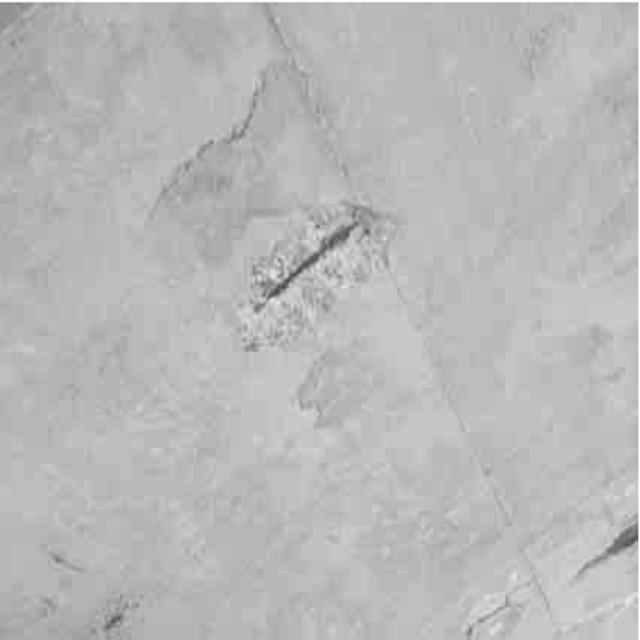spalling: (241, 176, 386, 354)
